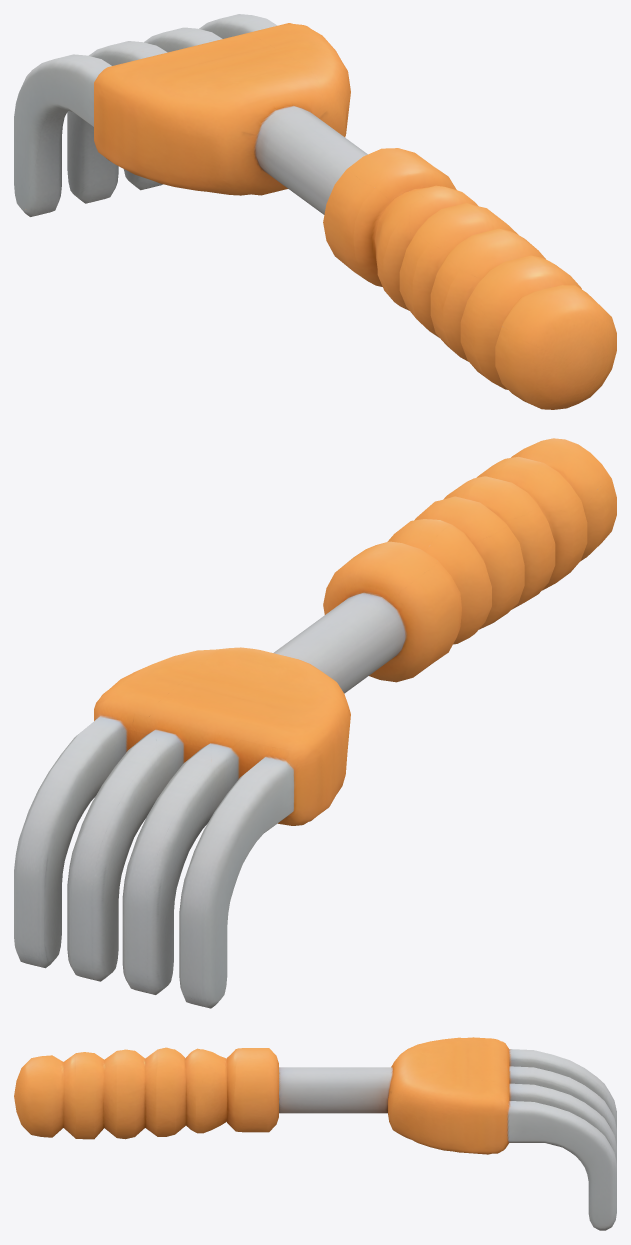
The model's file is base_basic_shaded.fbx.
The picture shows the model from 3 angles, top to bottom: view 1: azimuth 30°, elevation 25°; view 2: azimuth 150°, elevation 25°; view 3: azimuth 270°, elevation 25°; orthographic projection. The views are drawn at different scales.
Visible parts, largest first — view 1: model; view 2: model; view 3: model.
Boxes of the visible parts, x1,y1,x2,y2 form: model: [14, 14, 616, 409]; model: [14, 438, 616, 1008]; model: [14, 1037, 616, 1230].
Size of the model in its own units: 51.13 by 52.3 by 190.
